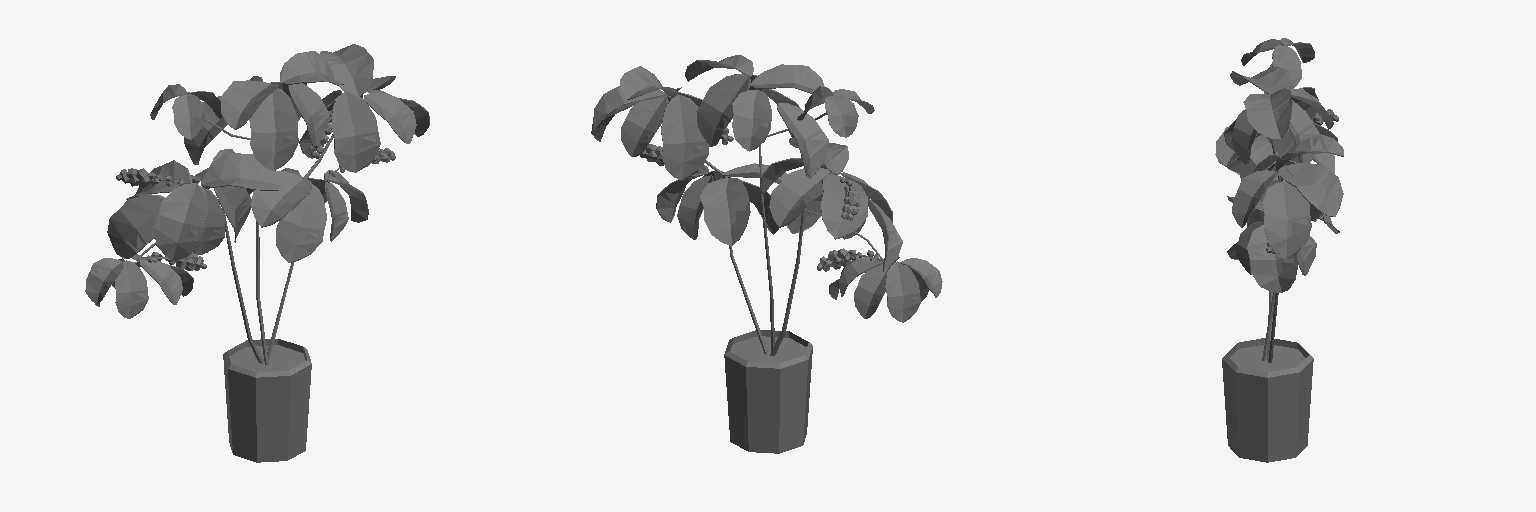
File: CoffeePlant.obj
The picture shows the model from 3 angles: view 1: azimuth 30°, elevation 25°; view 2: azimuth 150°, elevation 25°; view 3: azimuth 270°, elevation 25°; orthographic projection.
Visible parts, largest first — view 1: CoffeePlant; view 2: CoffeePlant; view 3: CoffeePlant.
Boxes of the visible parts, x1=… form: CoffeePlant: x1=85, y1=44, x2=429, y2=462; CoffeePlant: x1=591, y1=55, x2=942, y2=453; CoffeePlant: x1=1215, y1=38, x2=1343, y2=462.
Bounding box in the file's own units: 0.5539 × 0.5879 × 0.1836.